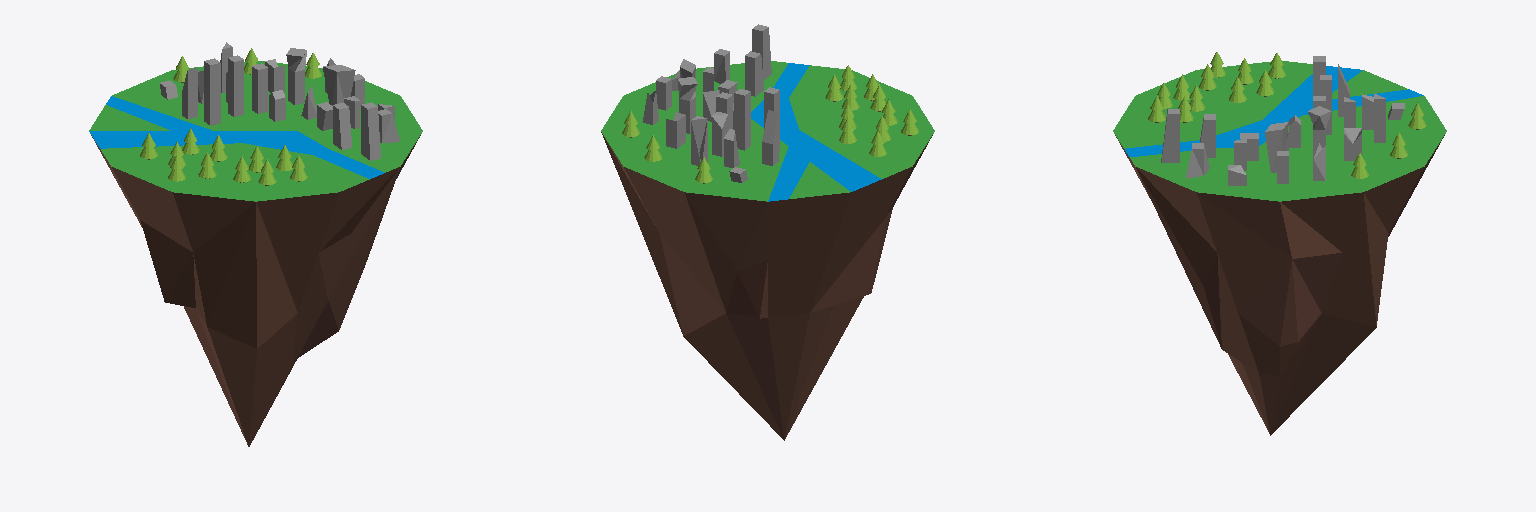
The picture shows the model from 3 angles: view 1: azimuth 30°, elevation 25°; view 2: azimuth 150°, elevation 25°; view 3: azimuth 270°, elevation 25°; orthographic projection.
Visible parts, largest first — view 1: group[number redacted]; view 2: group[number redacted]; view 3: group[number redacted].
Boxes of the visible parts, x1,y1,x2,y2 form: group[number redacted]: [89, 42, 422, 446]; group[number redacted]: [601, 24, 934, 440]; group[number redacted]: [1113, 56, 1446, 435].
Bounding box in the file's own units: 1.45 × 1.78 × 1.45.